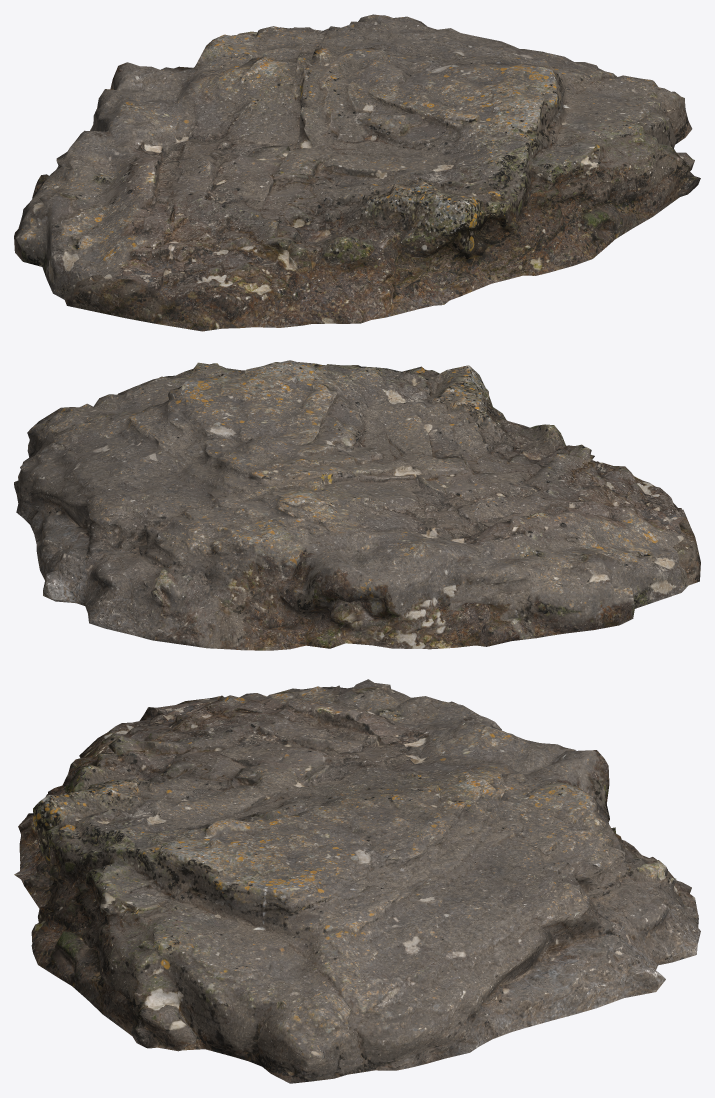
File: SM_we3pdjo_tier_2.gltf
3 views of the same model, one above another, from view 1: azimuth 30°, elevation 25°; view 2: azimuth 150°, elevation 25°; view 3: azimuth 270°, elevation 25° (orthographic). The views are drawn at different scales.
Visible parts, largest first — view 1: SM_we3pdjo; view 2: SM_we3pdjo; view 3: SM_we3pdjo.
Boxes of the visible parts, box(x1,y1,x2,y2) form: SM_we3pdjo: box(14, 14, 700, 331); SM_we3pdjo: box(14, 360, 700, 650); SM_we3pdjo: box(14, 679, 700, 1083).
Bounding box in the file's own units: 2.55 × 0.3787 × 2.01.
1 material, 1 textured.
